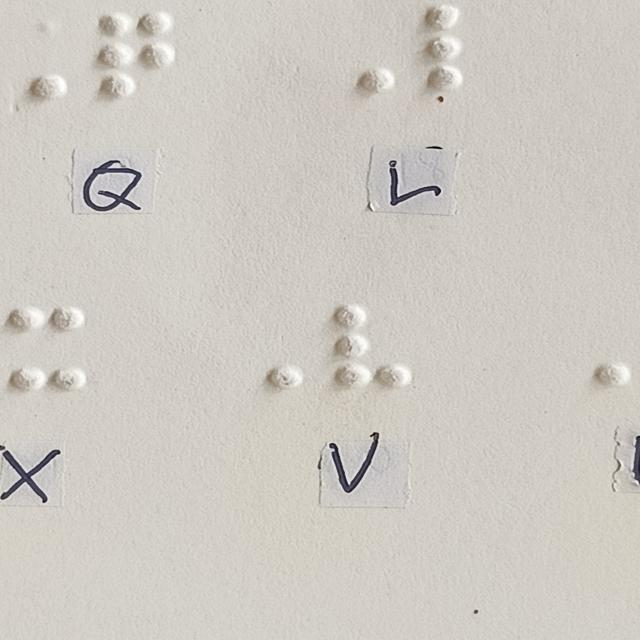capital_sign: (0, 12, 74, 98), (559, 304, 633, 390), (323, 8, 396, 95), (232, 305, 305, 391)
letter_L: (424, 6, 497, 93)
letter_Q: (99, 11, 173, 97)
letter_V: (335, 305, 409, 391)
letter_x: (9, 306, 83, 393)
